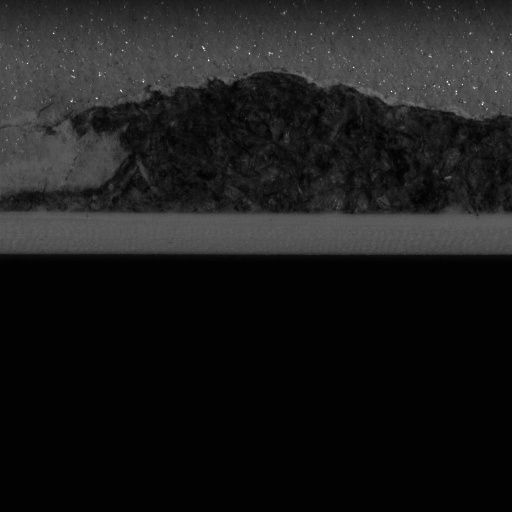bengque: (71, 71, 511, 213), (1, 180, 102, 216)
